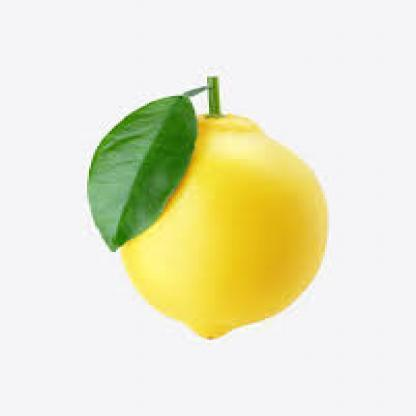lemon: (119, 114, 328, 340)
